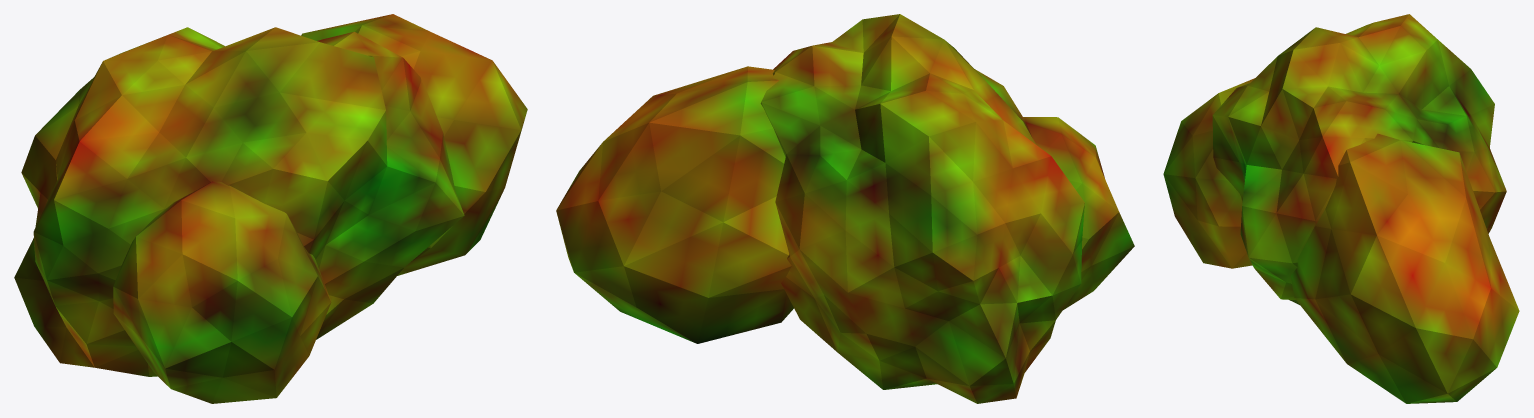
File: 中型金矿_01_月牙.fbx
3 views of the same model, side by side, from view 1: azimuth 30°, elevation 25°; view 2: azimuth 150°, elevation 25°; view 3: azimuth 270°, elevation 25° (orthographic). The views are drawn at different scales.
Parts seen in each view (by area): view 1: GoldOre_Medium_01; view 2: GoldOre_Medium_01; view 3: GoldOre_Medium_01.
Part boxes in pixels (bbox=[...]): GoldOre_Medium_01: bbox=[14, 14, 527, 403]; GoldOre_Medium_01: bbox=[556, 14, 1134, 403]; GoldOre_Medium_01: bbox=[1163, 14, 1519, 403].
Bounding box in the file's own units: 0.99 × 0.6 × 0.6866.
